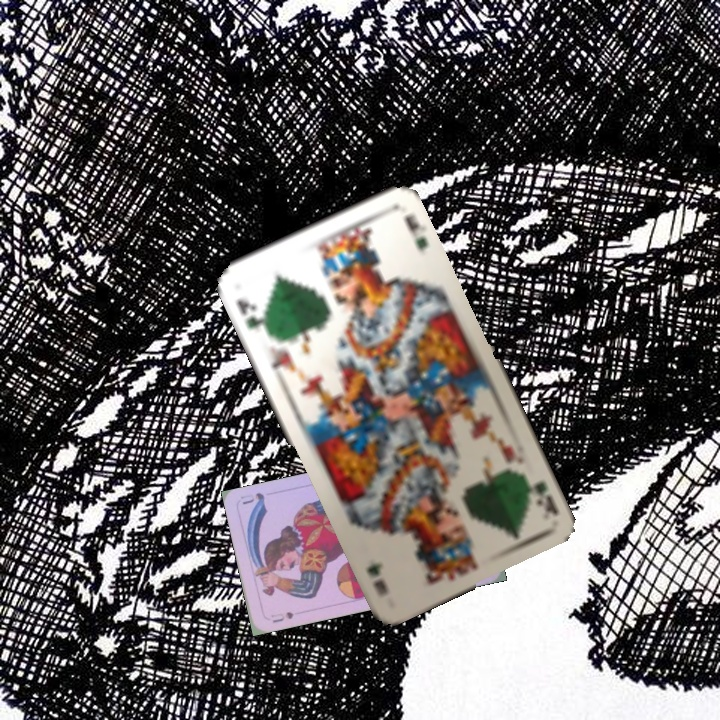GK: (520, 471, 561, 519), (231, 295, 272, 337)
SU: (267, 607, 296, 625)
